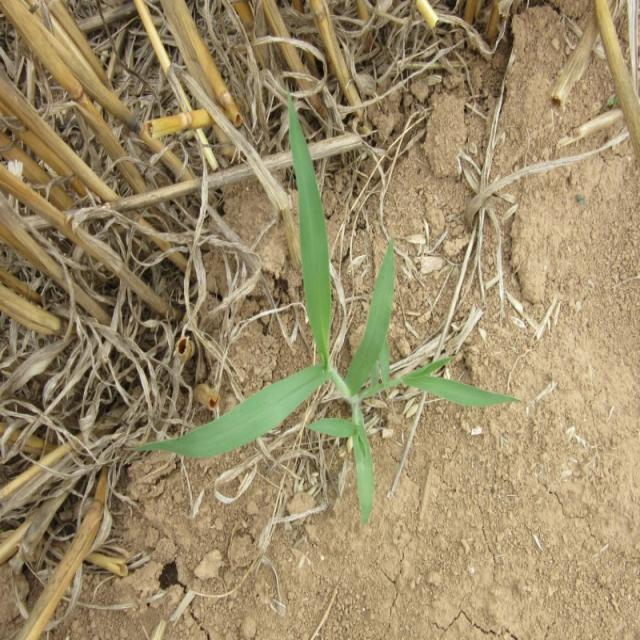bg: (131, 96, 529, 527)
